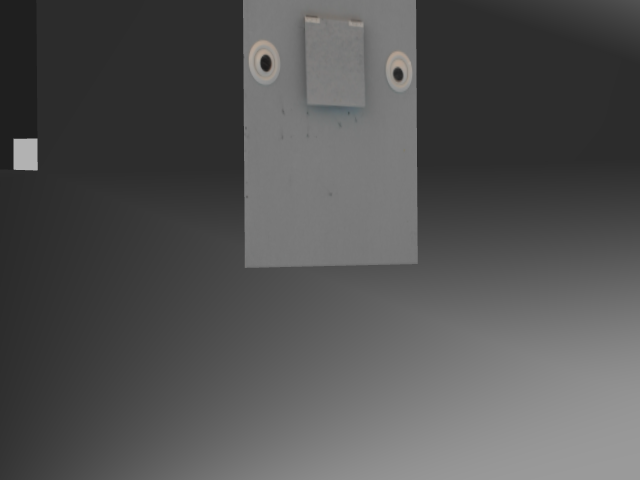facade: (246, 12, 413, 112)
